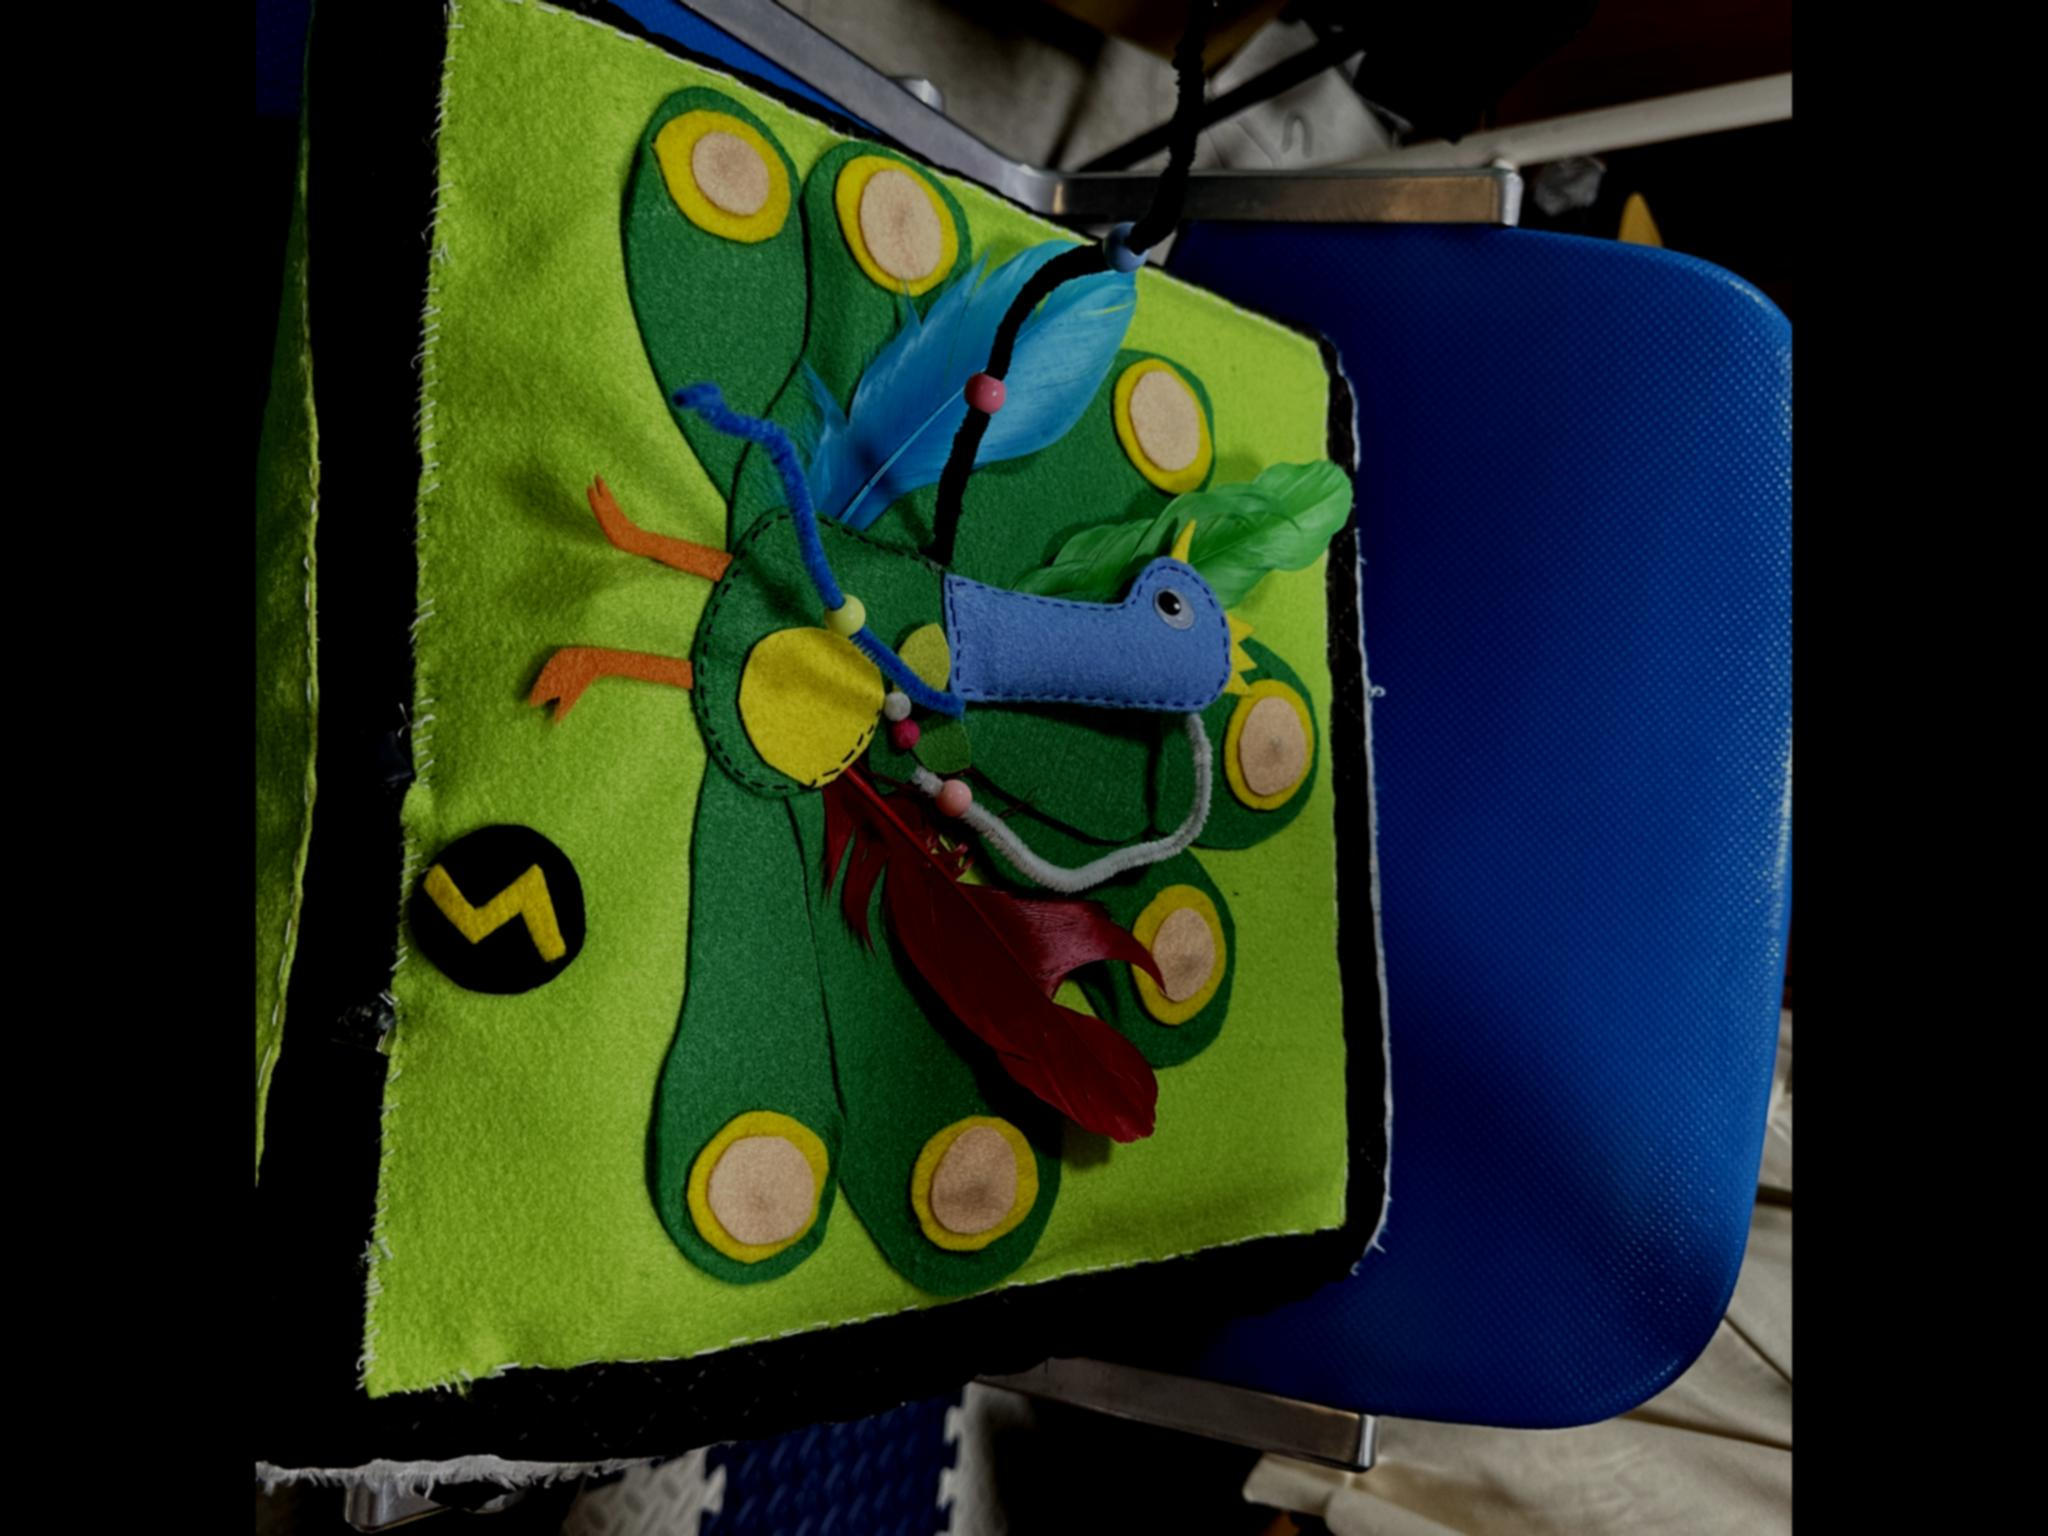bead: (1090, 202, 1155, 294), (797, 582, 885, 649), (908, 760, 997, 826), (955, 365, 1018, 426)
